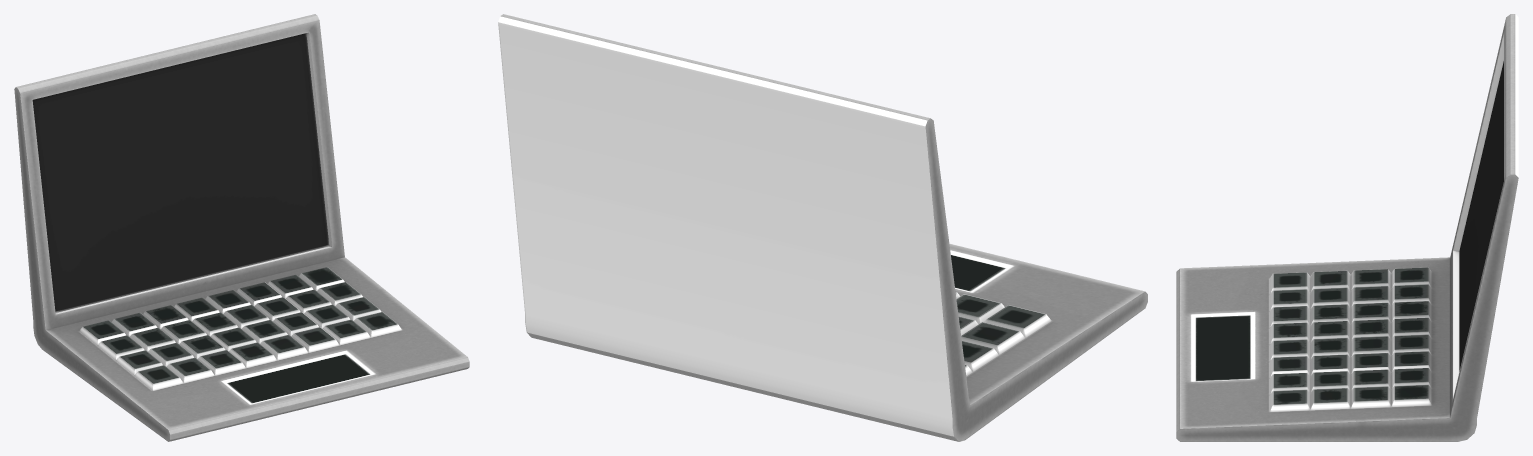
File: laptop.fbx
3 views of the same model, side by side, from view 1: azimuth 30°, elevation 25°; view 2: azimuth 150°, elevation 25°; view 3: azimuth 270°, elevation 25° (orthographic). The views are drawn at different scales.
Visible parts, largest first — view 1: Object_2; view 2: Object_2; view 3: Object_2.
Boxes of the visible parts, box(x1,y1,x2,y2) form: Object_2: box(14, 14, 469, 441); Object_2: box(498, 14, 1147, 441); Object_2: box(1176, 14, 1518, 441).
Size of the model in its own units: 12136 by 9420 by 10932.
